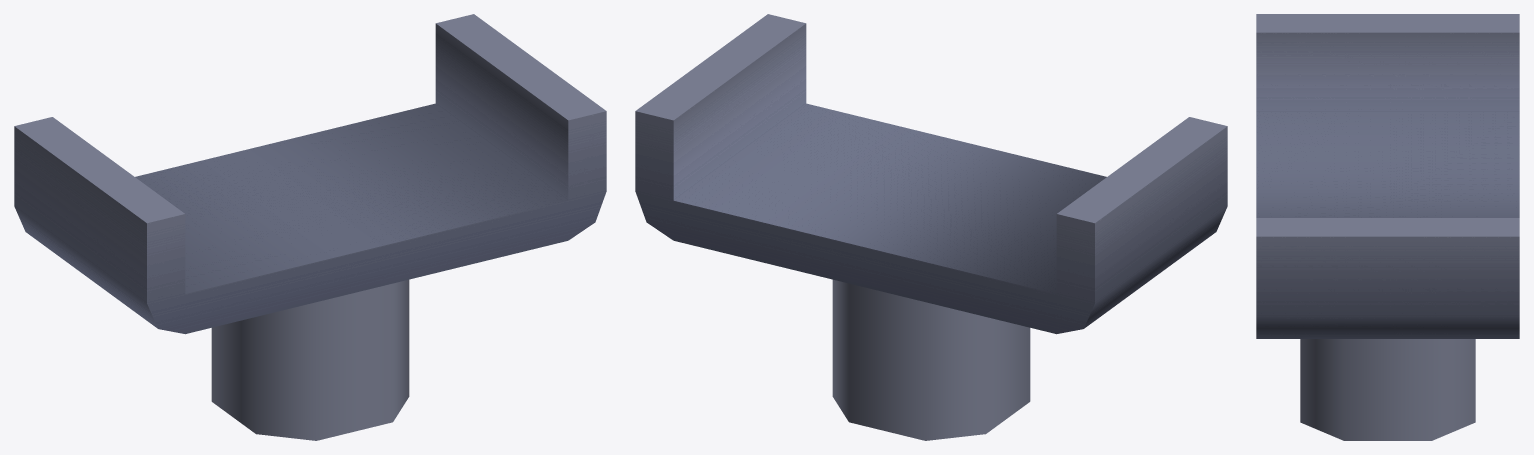
Rendered from support-single-top.glb.
3 views of the same model, side by side, from view 1: azimuth 30°, elevation 25°; view 2: azimuth 150°, elevation 25°; view 3: azimuth 270°, elevation 25° (orthographic).
Parts seen in each view (by area): view 1: support-single-top; view 2: support-single-top; view 3: support-single-top.
Part boxes in pixels (x1,y1,x2,y2): support-single-top: (14,14,606,440); support-single-top: (635,14,1227,440); support-single-top: (1256,14,1519,440).
Size of the model in its own units: 1.2 by 0.7 by 0.6.
1 material, 1 textured.
